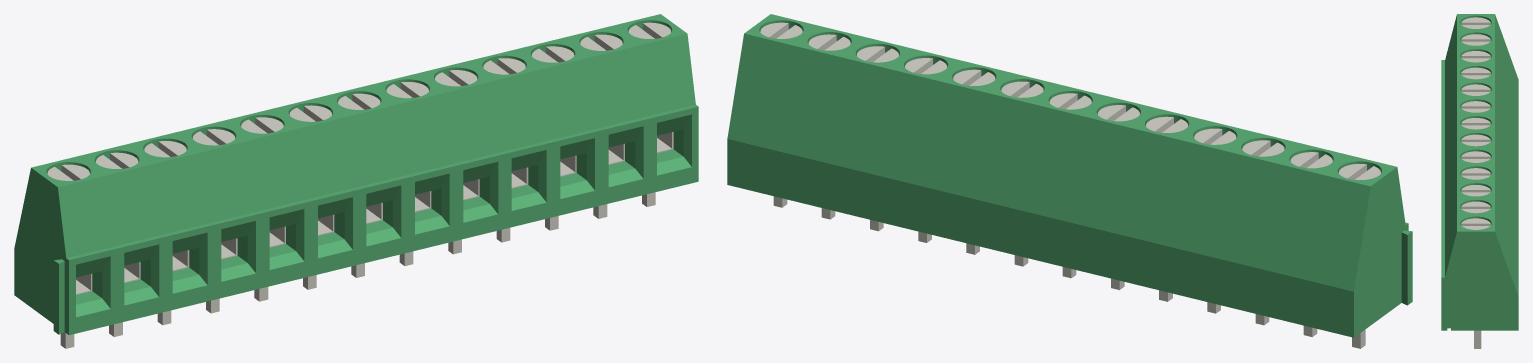
The model's file is kc-terminalblock_phoenix_mkds-1_5-13_1x13_p5.00mm_horizontal.glb.
The picture shows the model from 3 angles, left to right: view 1: azimuth 30°, elevation 25°; view 2: azimuth 150°, elevation 25°; view 3: azimuth 270°, elevation 25°; orthographic projection. The views are drawn at different scales.
Parts seen in each view (by area): view 1: 0.08333333333333333_0.4166666666666667_0.16666666666666666_0, 0.6666666666666666_0.6666666666666666_0.5833333333333334_0.8; view 2: 0.08333333333333333_0.4166666666666667_0.16666666666666666_0, 0.6666666666666666_0.6666666666666666_0.5833333333333334_0.8; view 3: 0.08333333333333333_0.4166666666666667_0.16666666666666666_0, 0.6666666666666666_0.6666666666666666_0.5833333333333334_0.8.
Part boxes in pixels (<box>): 0.08333333333333333_0.4166666666666667_0.16666666666666666_0: <box>14,14,698,335</box>; 0.6666666666666666_0.6666666666666666_0.5833333333333334_0.8: <box>47,22,673,348</box>; 0.08333333333333333_0.4166666666666667_0.16666666666666666_0: <box>727,14,1412,337</box>; 0.6666666666666666_0.6666666666666666_0.5833333333333334_0.8: <box>760,22,1380,348</box>; 0.08333333333333333_0.4166666666666667_0.16666666666666666_0: <box>1441,14,1518,330</box>; 0.6666666666666666_0.6666666666666666_0.5833333333333334_0.8: <box>1461,17,1490,348</box>.
Bounding box in the file's own units: 6.57 × 1.73 × 0.9799.
